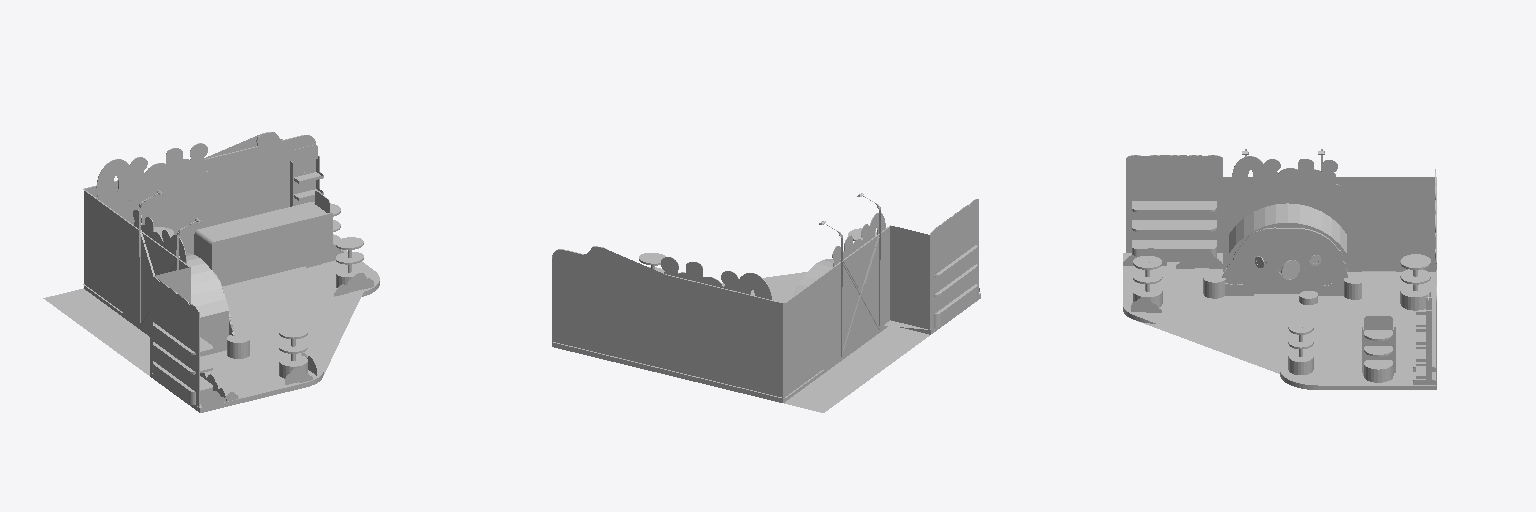
File: booth oishi.obj
3 views of the same model, side by side, from view 1: azimuth 30°, elevation 25°; view 2: azimuth 150°, elevation 25°; view 3: azimuth 270°, elevation 25° (orthographic).
Parts seen in each view (by area): view 1: Mesh5 Group5 Model, Mesh7 Group7 Model, Mesh273 Model, Mesh239 Group46 Group42 Model, Mesh8 Group8 Model, Mesh274 Model, Mesh262 Group72 Model, Mesh4 Group4 Model, Mesh261 Group71 Model, Mesh26 Group27 Group26 Model; view 2: Mesh273 Model, Mesh7 Group7 Model, Mesh274 Model, Mesh8 Group8 Model, Mesh5 Group5 Model, Mesh4 Group4 Model, Mesh261 Group71 Model; view 3: Mesh5 Group5 Model, Mesh7 Group7 Model, Mesh257 Group68 Model, Mesh4 Group4 Model, Mesh262 Group72 Model, Mesh239 Group46 Group42 Model, Mesh261 Group71 Model, Mesh258 Group69 Model, Mesh22 Group21 Model, Mesh248 Group57 Group55 Model, Mesh244 Group52 Group42 Model, Mesh19 Group18 Group16 Model.
Boxes of the visible parts, x1,y1,x2,y2 form: Mesh5 Group5 Model: [84, 249, 379, 412]; Mesh7 Group7 Model: [83, 189, 199, 406]; Mesh273 Model: [84, 132, 315, 254]; Mesh239 Group46 Group42 Model: [194, 202, 327, 286]; Mesh8 Group8 Model: [96, 143, 209, 210]; Mesh274 Model: [43, 288, 149, 375]; Mesh262 Group72 Model: [176, 253, 228, 356]; Mesh4 Group4 Model: [132, 210, 186, 270]; Mesh261 Group71 Model: [153, 361, 212, 404]; Mesh26 Group27 Group26 Model: [227, 333, 249, 358]; Mesh273 Model: [552, 246, 783, 398]; Mesh7 Group7 Model: [784, 199, 978, 397]; Mesh274 Model: [784, 326, 930, 412]; Mesh8 Group8 Model: [659, 257, 771, 324]; Mesh5 Group5 Model: [552, 272, 980, 402]; Mesh4 Group4 Model: [832, 213, 885, 282]; Mesh261 Group71 Model: [934, 284, 977, 327]; Mesh5 Group5 Model: [1123, 253, 1436, 389]; Mesh7 Group7 Model: [1126, 155, 1435, 271]; Mesh257 Group68 Model: [1222, 227, 1347, 293]; Mesh4 Group4 Model: [1232, 156, 1339, 197]; Mesh262 Group72 Model: [1229, 203, 1346, 272]; Mesh239 Group46 Group42 Model: [1362, 271, 1395, 372]; Mesh261 Group71 Model: [1132, 240, 1216, 261]; Mesh258 Group69 Model: [1132, 220, 1216, 231]; Mesh22 Group21 Model: [1132, 201, 1216, 212]; Mesh248 Group57 Group55 Model: [1400, 284, 1430, 310]; Mesh244 Group52 Group42 Model: [1364, 360, 1392, 382]; Mesh19 Group18 Group16 Model: [1288, 350, 1313, 374].
Size of the model in its own units: 607 by 285 by 600.